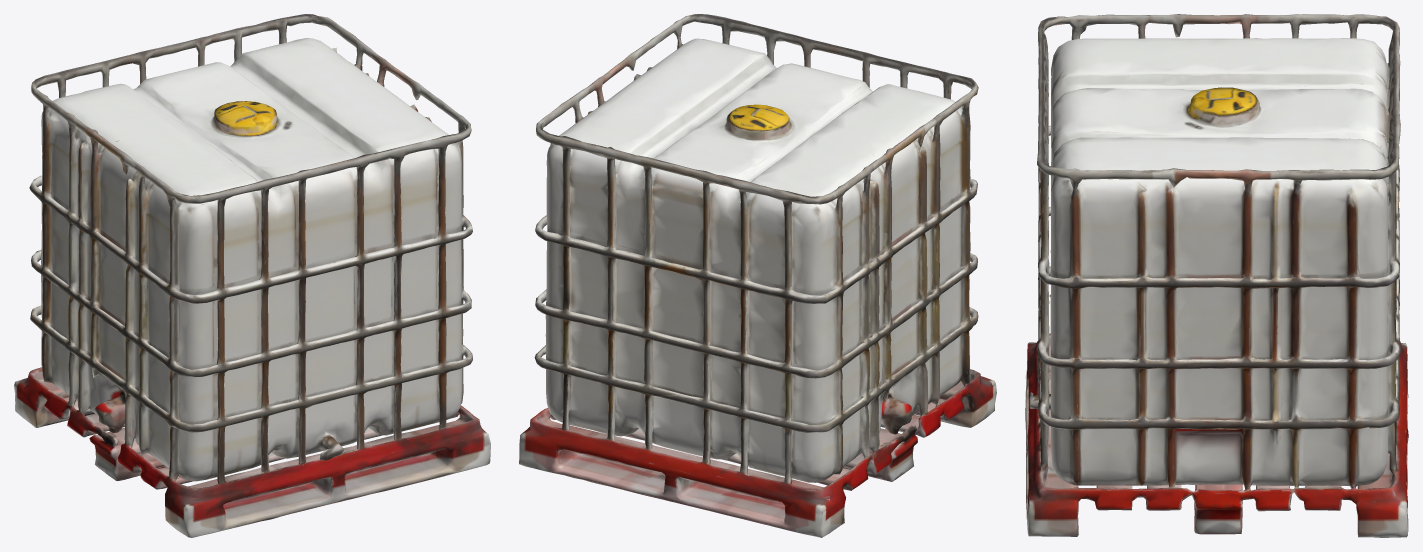
File: ibc-1000l.glb
3 views of the same model, side by side, from view 1: azimuth 30°, elevation 25°; view 2: azimuth 150°, elevation 25°; view 3: azimuth 270°, elevation 25° (orthographic). The views are drawn at different scales.
Bounding box in the file's own units: 1.94 × 2.01 × 1.91.
Materials: 1 (1 with a texture image).
